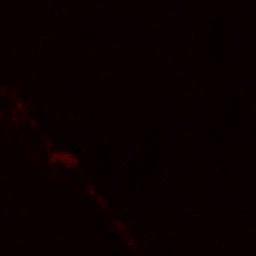debris: (45, 147, 85, 169), (10, 97, 25, 125), (27, 120, 48, 139), (79, 178, 101, 194), (107, 216, 126, 234), (90, 191, 109, 207), (122, 230, 135, 249)
